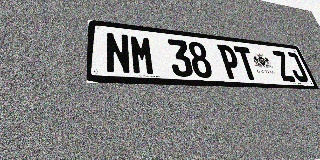3: (167, 39, 194, 77)
8: (187, 41, 214, 78)
J: (284, 52, 310, 82)
M: (129, 35, 156, 76)
N: (105, 32, 131, 75)
P: (217, 44, 243, 79)
T: (233, 46, 260, 80)
Z: (271, 50, 297, 82)
